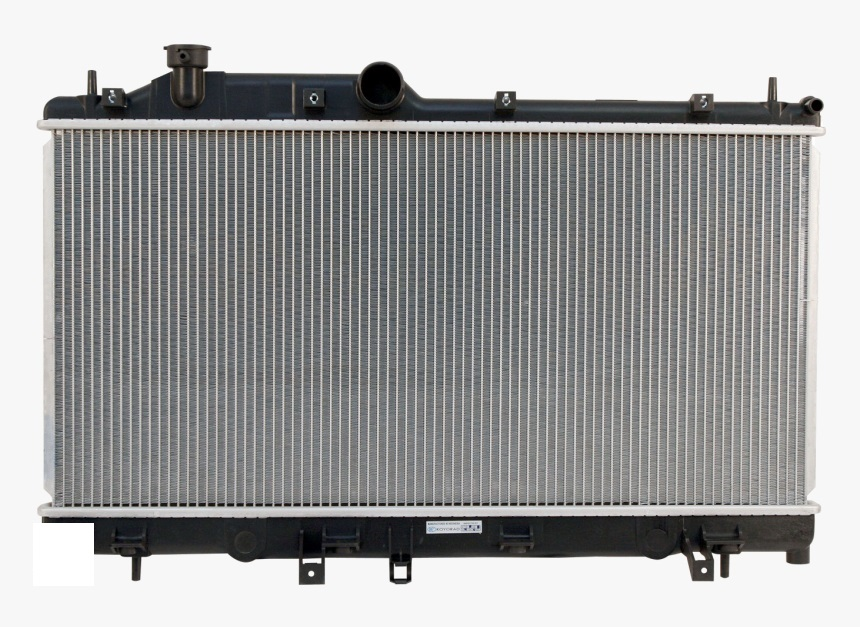c1: (86, 66, 126, 113)
c10: (230, 528, 261, 558)
c11: (297, 523, 362, 586)
c12: (386, 523, 414, 584)
c13: (496, 521, 537, 556)
c14: (682, 522, 749, 582)
c2: (161, 43, 213, 113)
c3: (301, 84, 327, 112)
c4: (354, 57, 410, 114)
c5: (493, 86, 519, 116)
c6: (690, 92, 717, 116)
c7: (766, 75, 826, 122)
c9: (108, 525, 151, 583)
